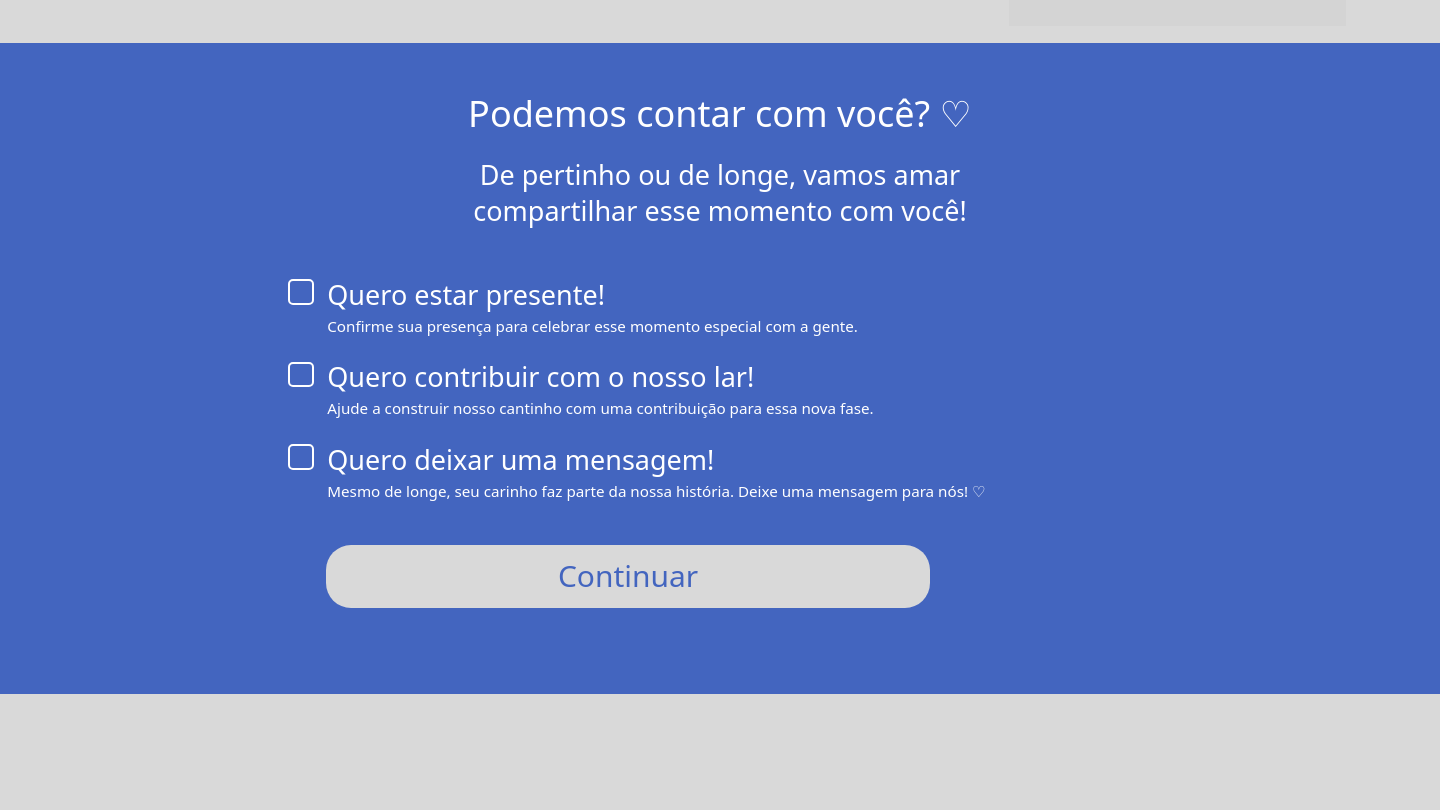
it: página inicial › mostra o convite e exige ao menos uma escolha
(page scrolled)
Click the button "Continuar" at (628, 576), box x1=326 y1=545 x2=930 y2=608
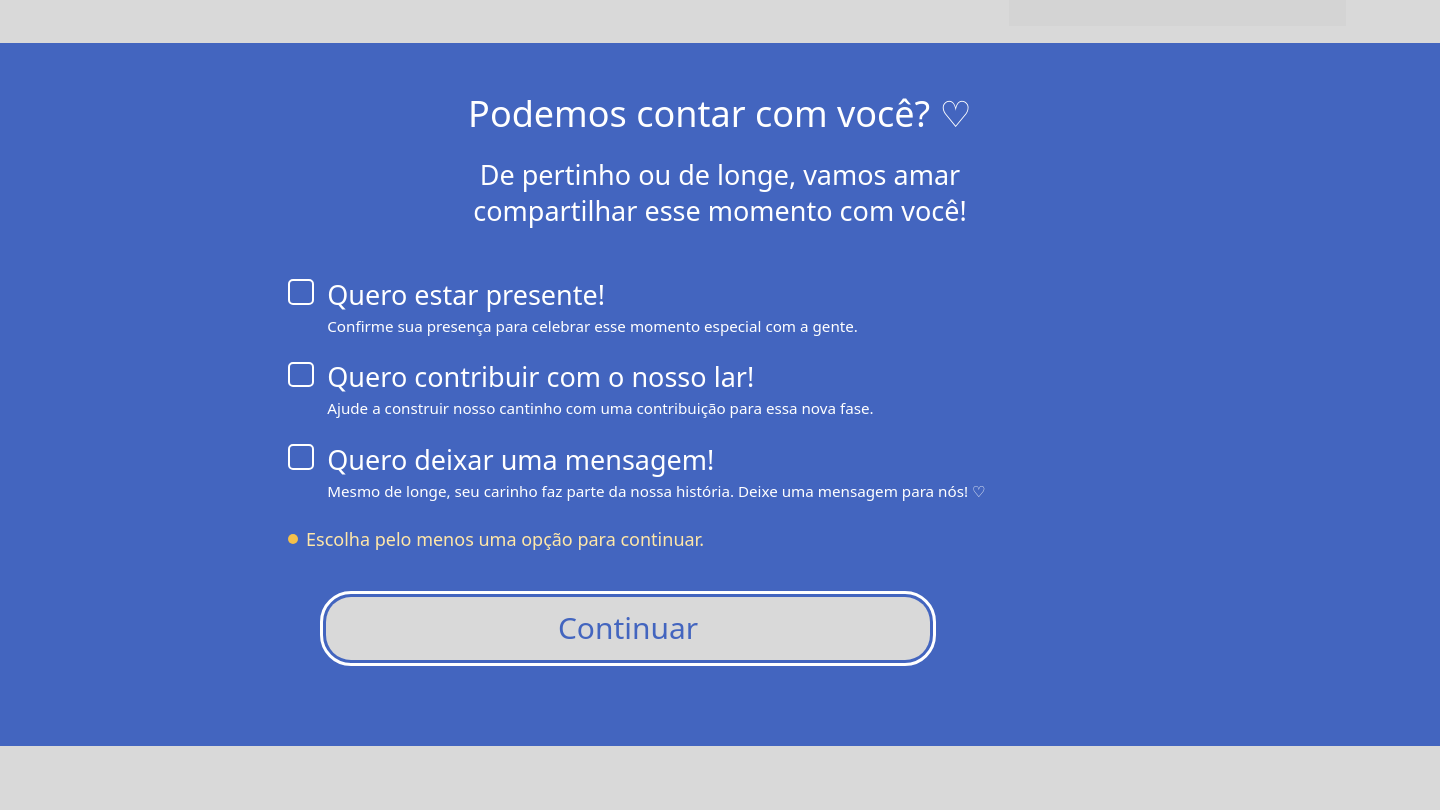
Expected: the message shows "Escolha pelo menos uma opção", x1=306 y1=528 x2=704 y2=552
